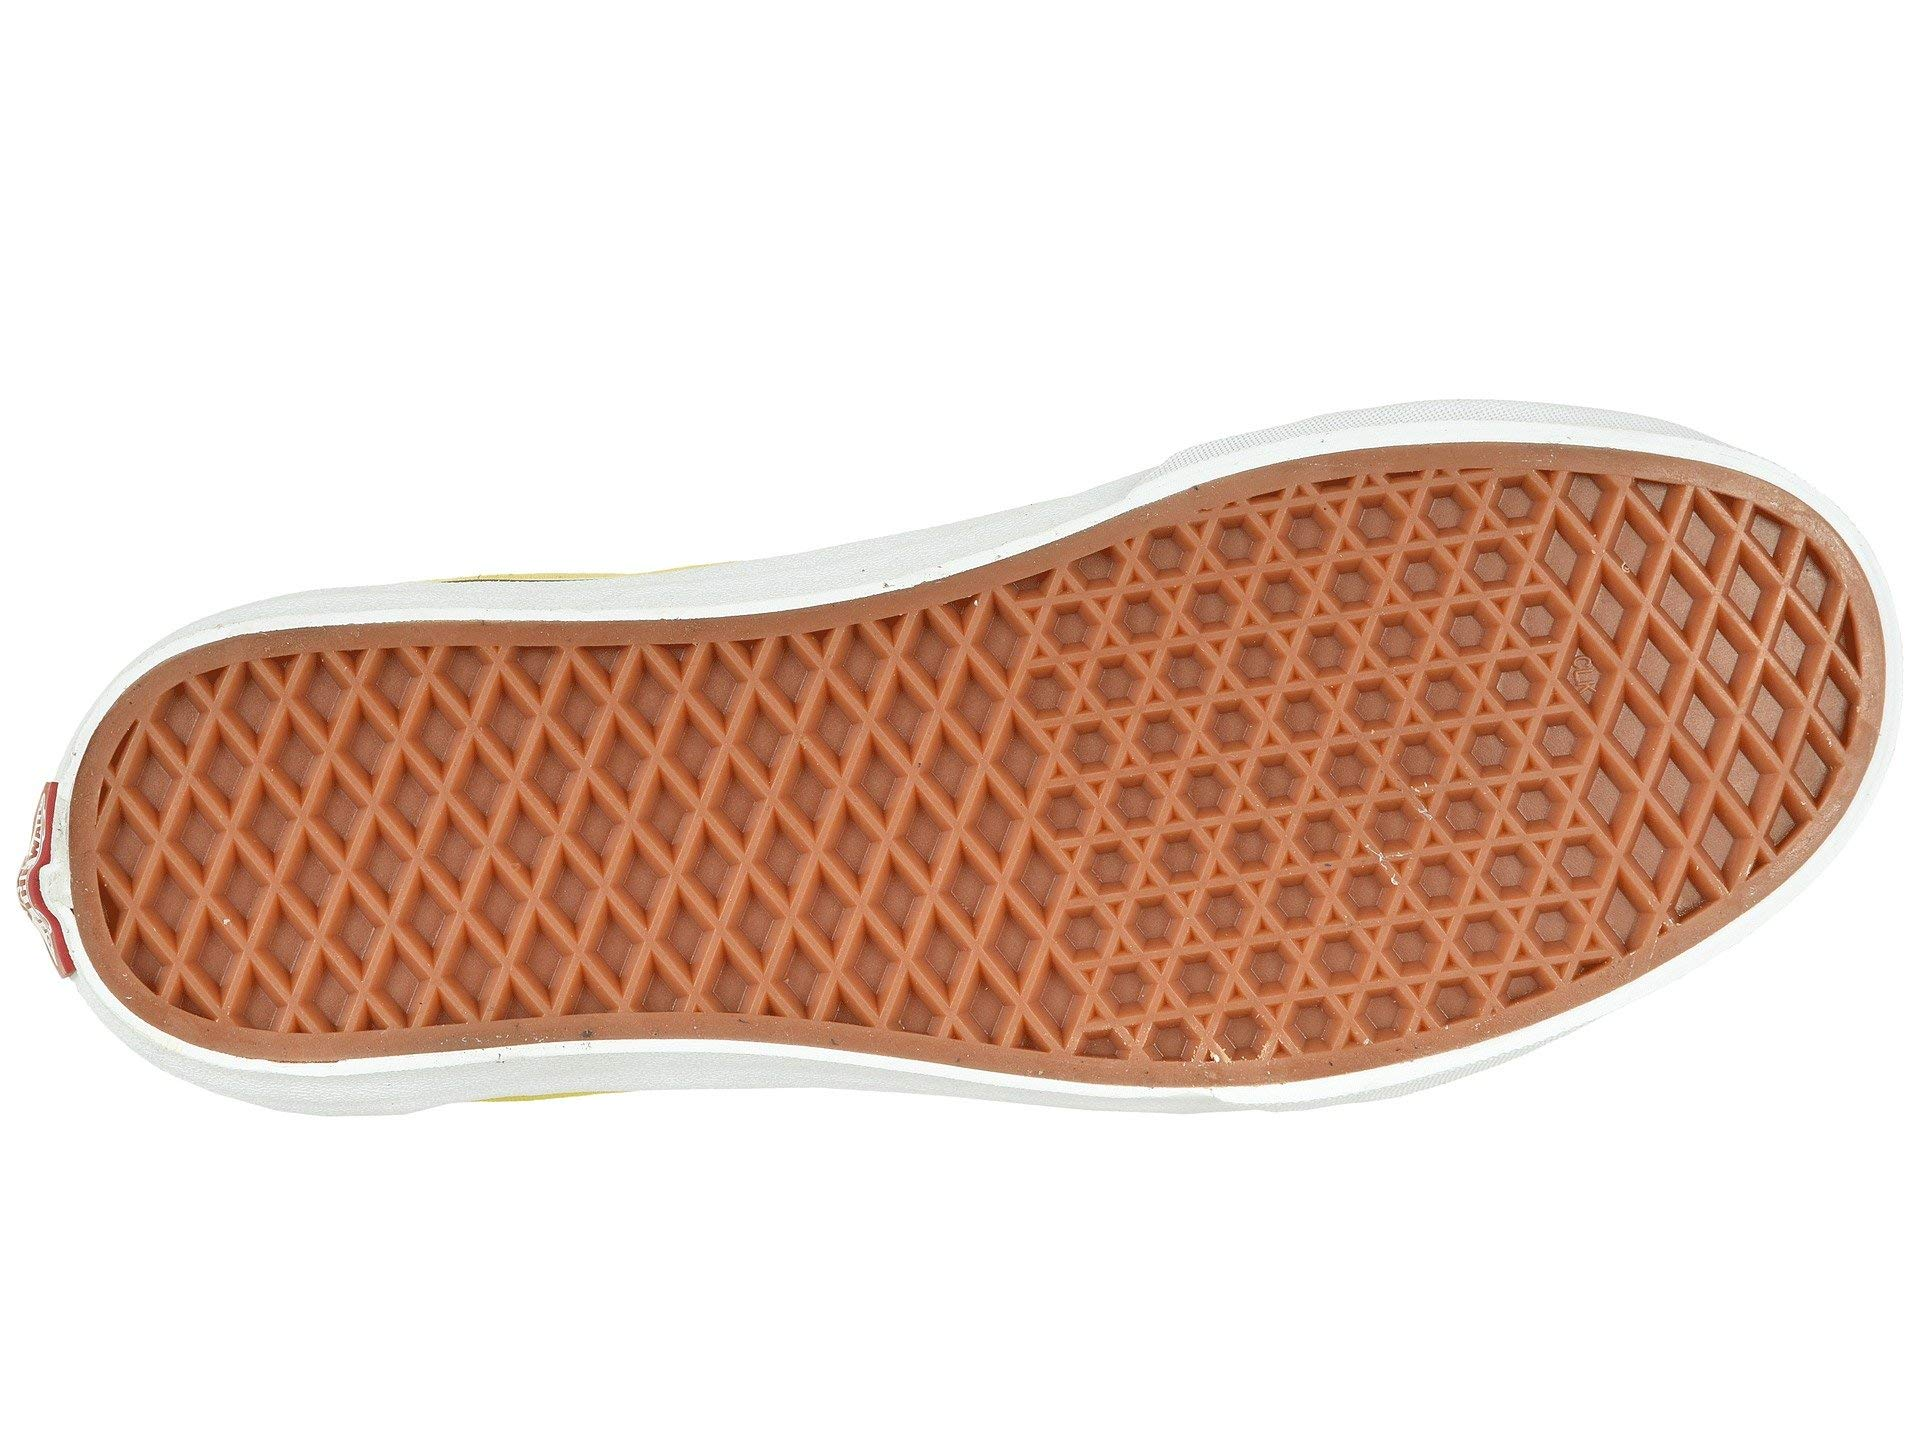polygon: (1070, 548, 1516, 970)
quad: (204, 691, 989, 976)
triangle: (1070, 548, 1516, 970)
